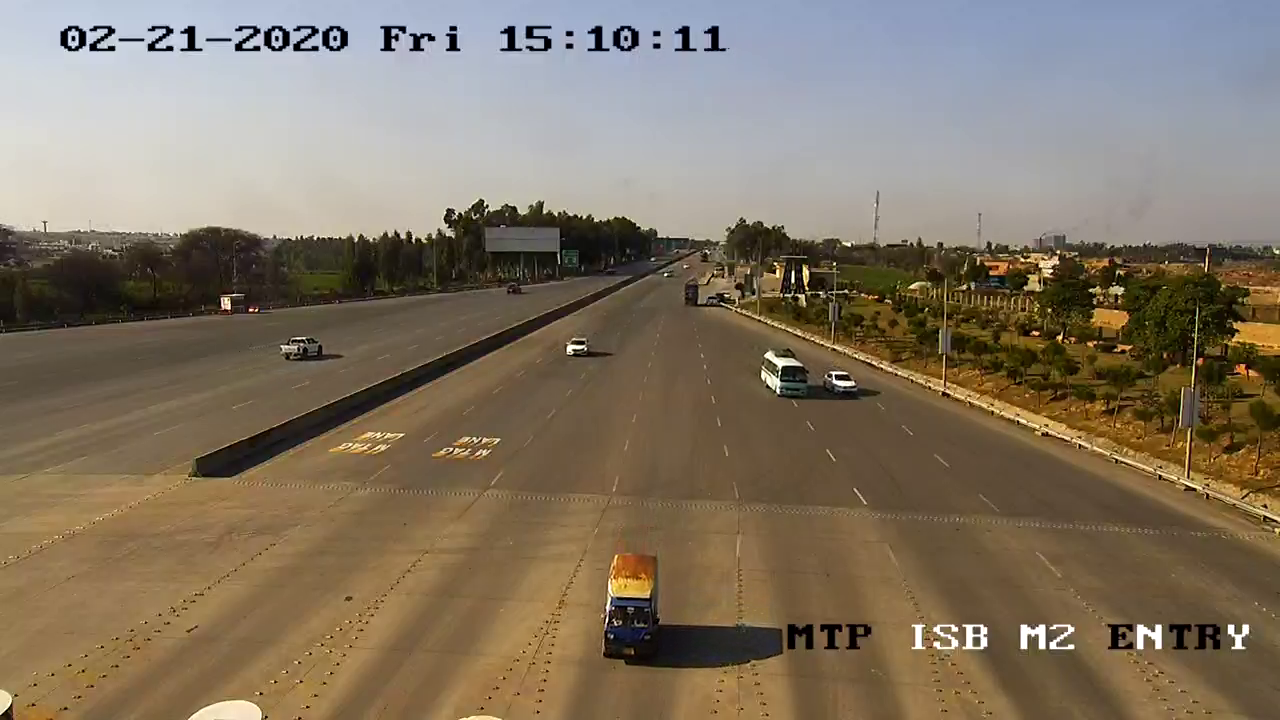f1: (587, 549, 672, 668), (821, 364, 861, 400)
f3: (757, 344, 814, 405)
